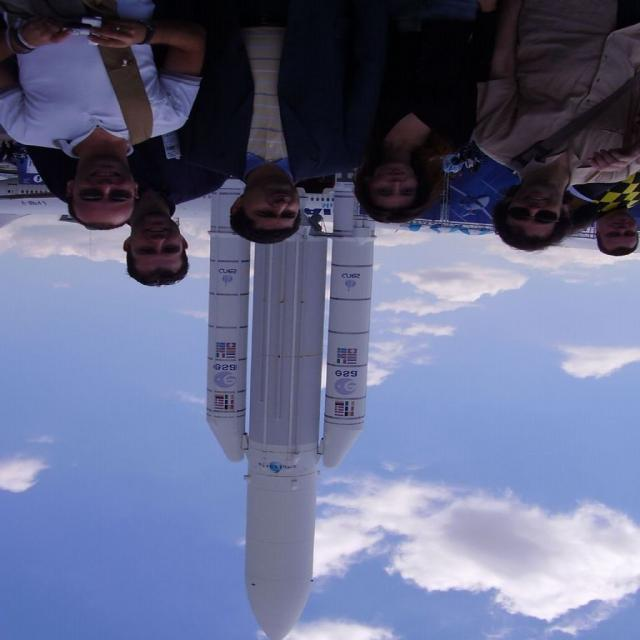Missile: (237, 175, 327, 640), (201, 201, 259, 473), (326, 177, 377, 473)
